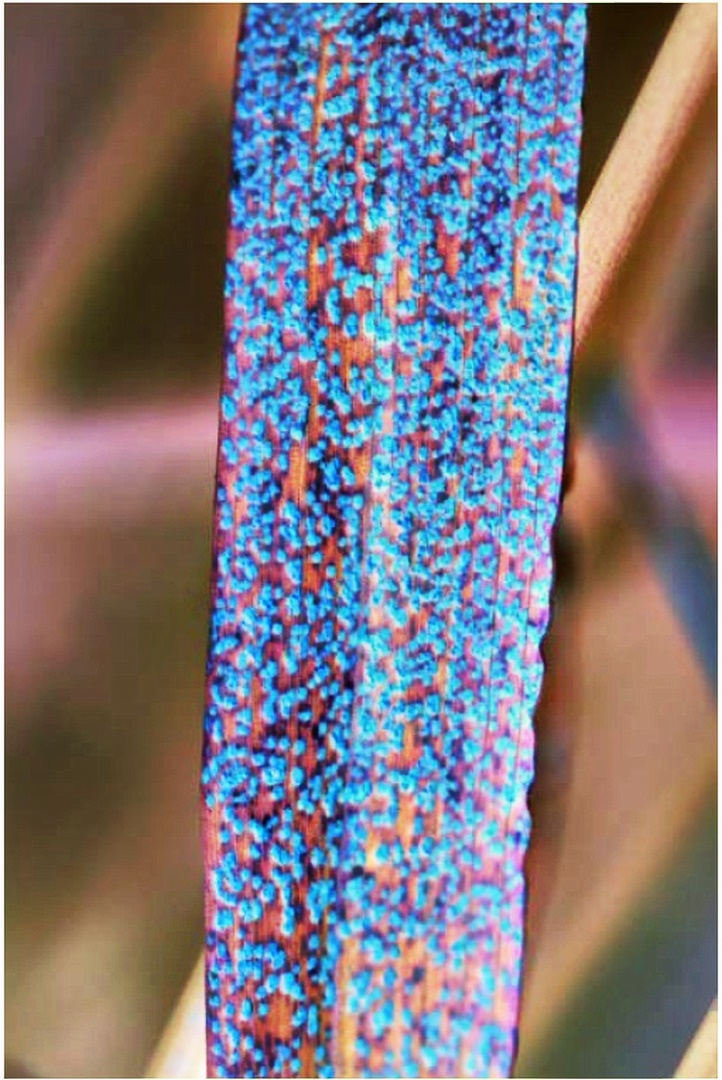Leaf Rust: (161, 35, 609, 1044)
